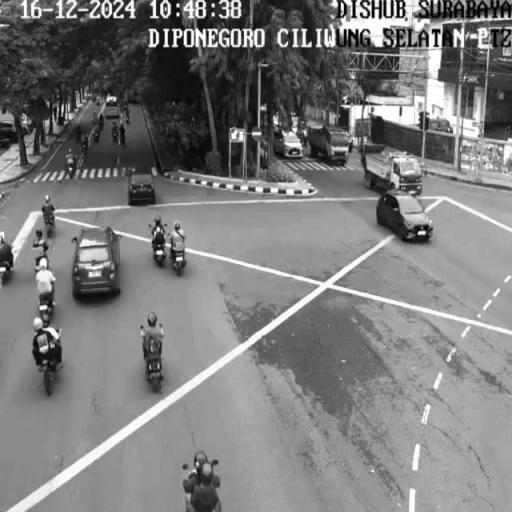car: (73, 229, 122, 294), (378, 190, 436, 242), (126, 165, 158, 205)
motorcycle: (35, 342, 60, 401), (140, 335, 166, 389), (148, 230, 168, 263), (170, 242, 188, 274), (37, 296, 57, 322), (44, 217, 55, 237), (1, 262, 10, 276)
truck: (363, 148, 426, 192)
